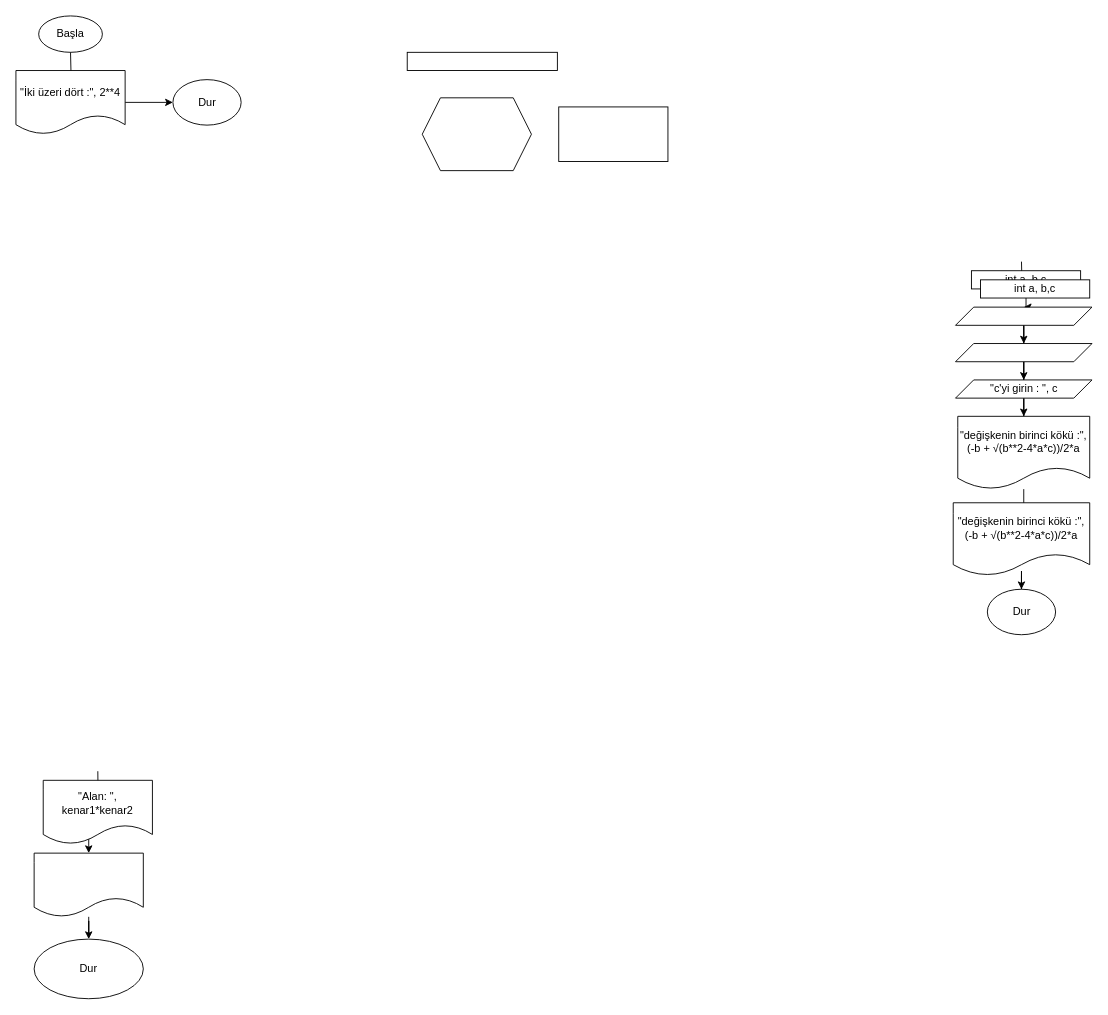
This 1108x1015 diagram has some shape labels left out. The centre of each missing label's shape, as x and y in pixels:
"a'yı girin : ", a: pixel 1023 315
"b'yi girin : ", b: pixel 1023 352
"Çevre: ", (kenar1+kenar2)*2: pixel 88 884
int sayi1 = 1, toplam = 0: pixel 481 61
sayi1,50,1: pixel 476 134
toplam += sayi1: pixel 613 134
